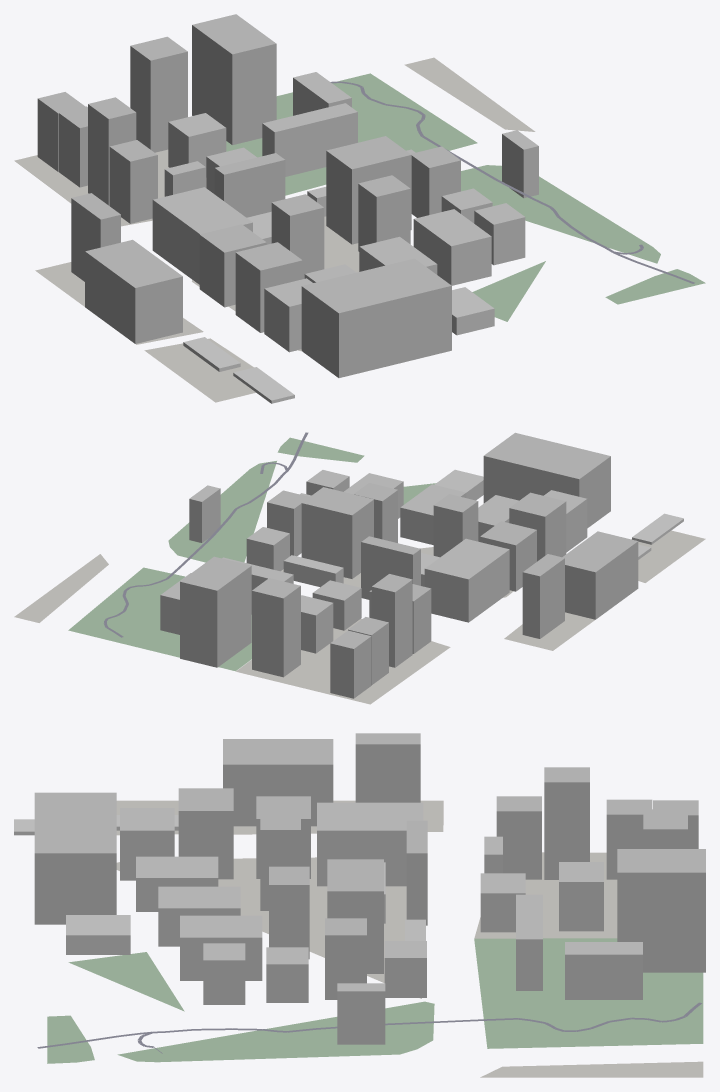
Rendered from 114_78_mid.glb.
3 renders of one model, top to bottom at view 1: azimuth 30°, elevation 25°; view 2: azimuth 150°, elevation 25°; view 3: azimuth 270°, elevation 25°, orthographic. The views are drawn at different scales.
Size of the model in its own units: 500 by 86.56 by 527.
